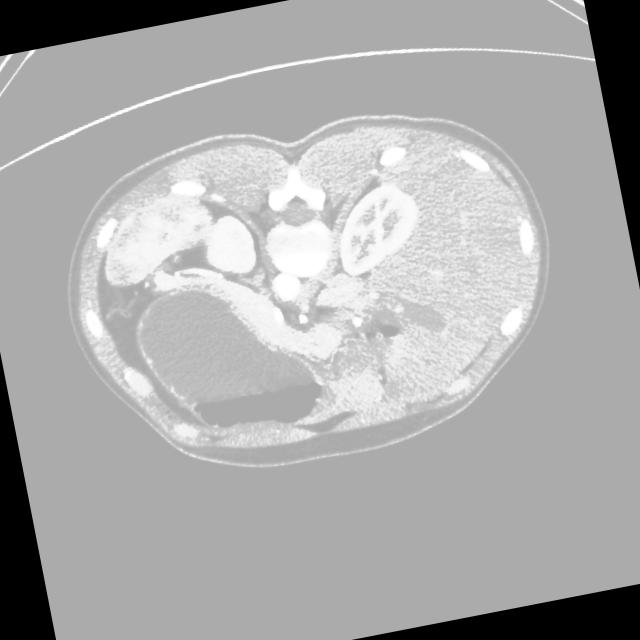NORMAL: (6, 54, 617, 531)
